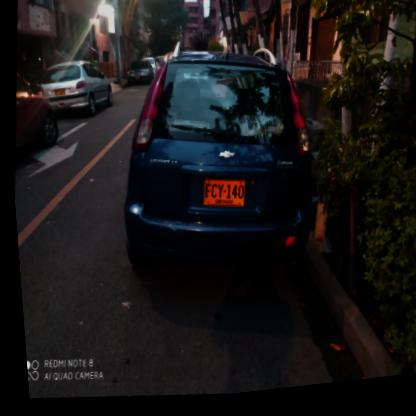placa: (194, 176, 248, 219)
